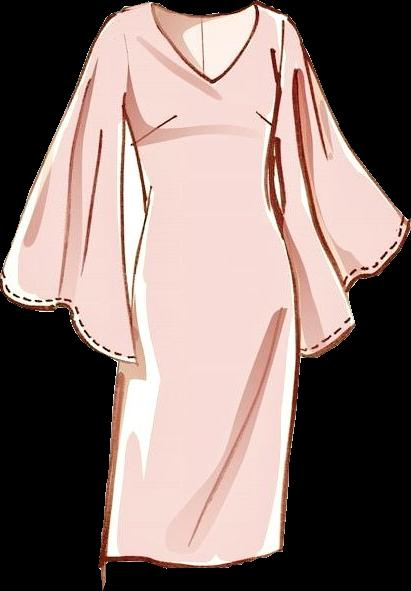Bodice: (117, 2, 284, 195)
Hemline: (100, 540, 285, 568)
Neckline: (150, 0, 261, 85)
Skirt: (100, 192, 299, 567)
Sleeve: (0, 11, 142, 367), (276, 14, 410, 358)
Sleeveline: (117, 10, 132, 115), (275, 14, 289, 109)
